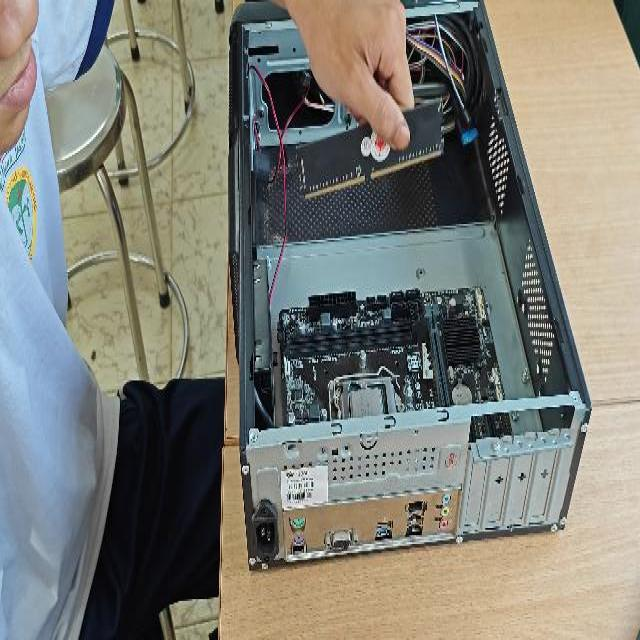CPU: (348, 386, 384, 418)
Mainboard: (278, 283, 514, 437)
RAM: (294, 97, 446, 200)
